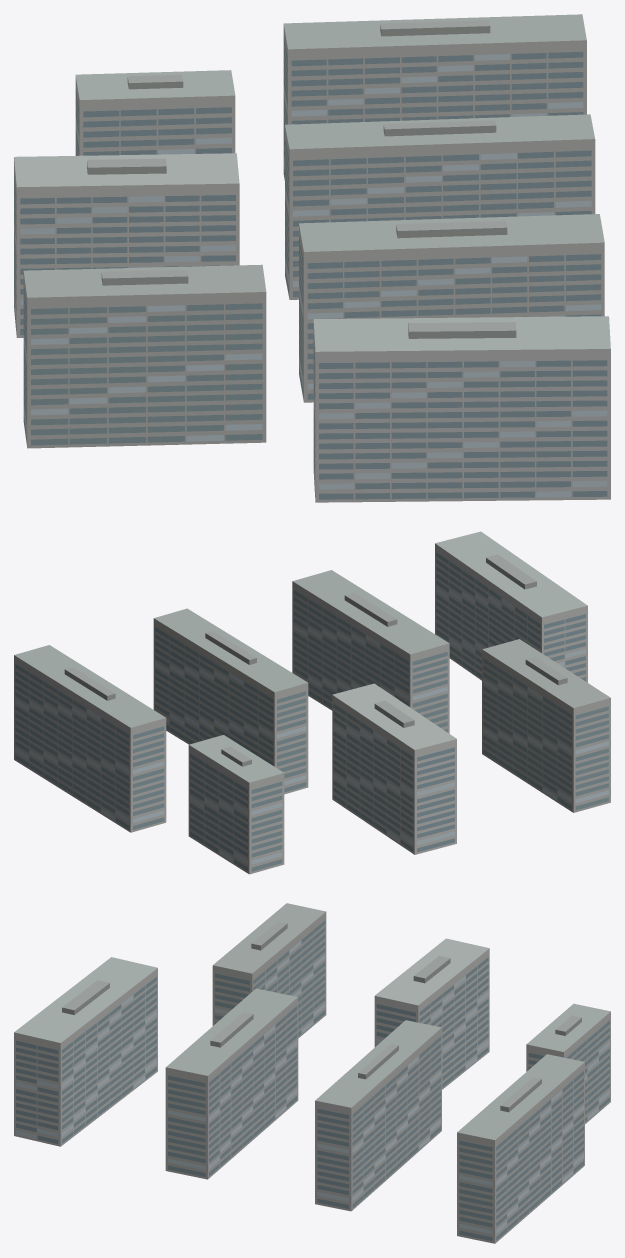
File: apt-a15703004.glb
3 views of the same model, one above another, from view 1: azimuth 30°, elevation 25°; view 2: azimuth 150°, elevation 25°; view 3: azimuth 270°, elevation 25° (orthographic). The views are drawn at different scales.
Visible parts, largest first — view 1: apt-a15703004; view 2: apt-a15703004; view 3: apt-a15703004.
Part boxes in pixels (left/top/right/bottom): apt-a15703004: left=14, top=14, right=610, bottom=502; apt-a15703004: left=14, top=531, right=610, bottom=874; apt-a15703004: left=14, top=903, right=610, bottom=1243.
Size of the model in its own units: 187 by 40 by 199.
